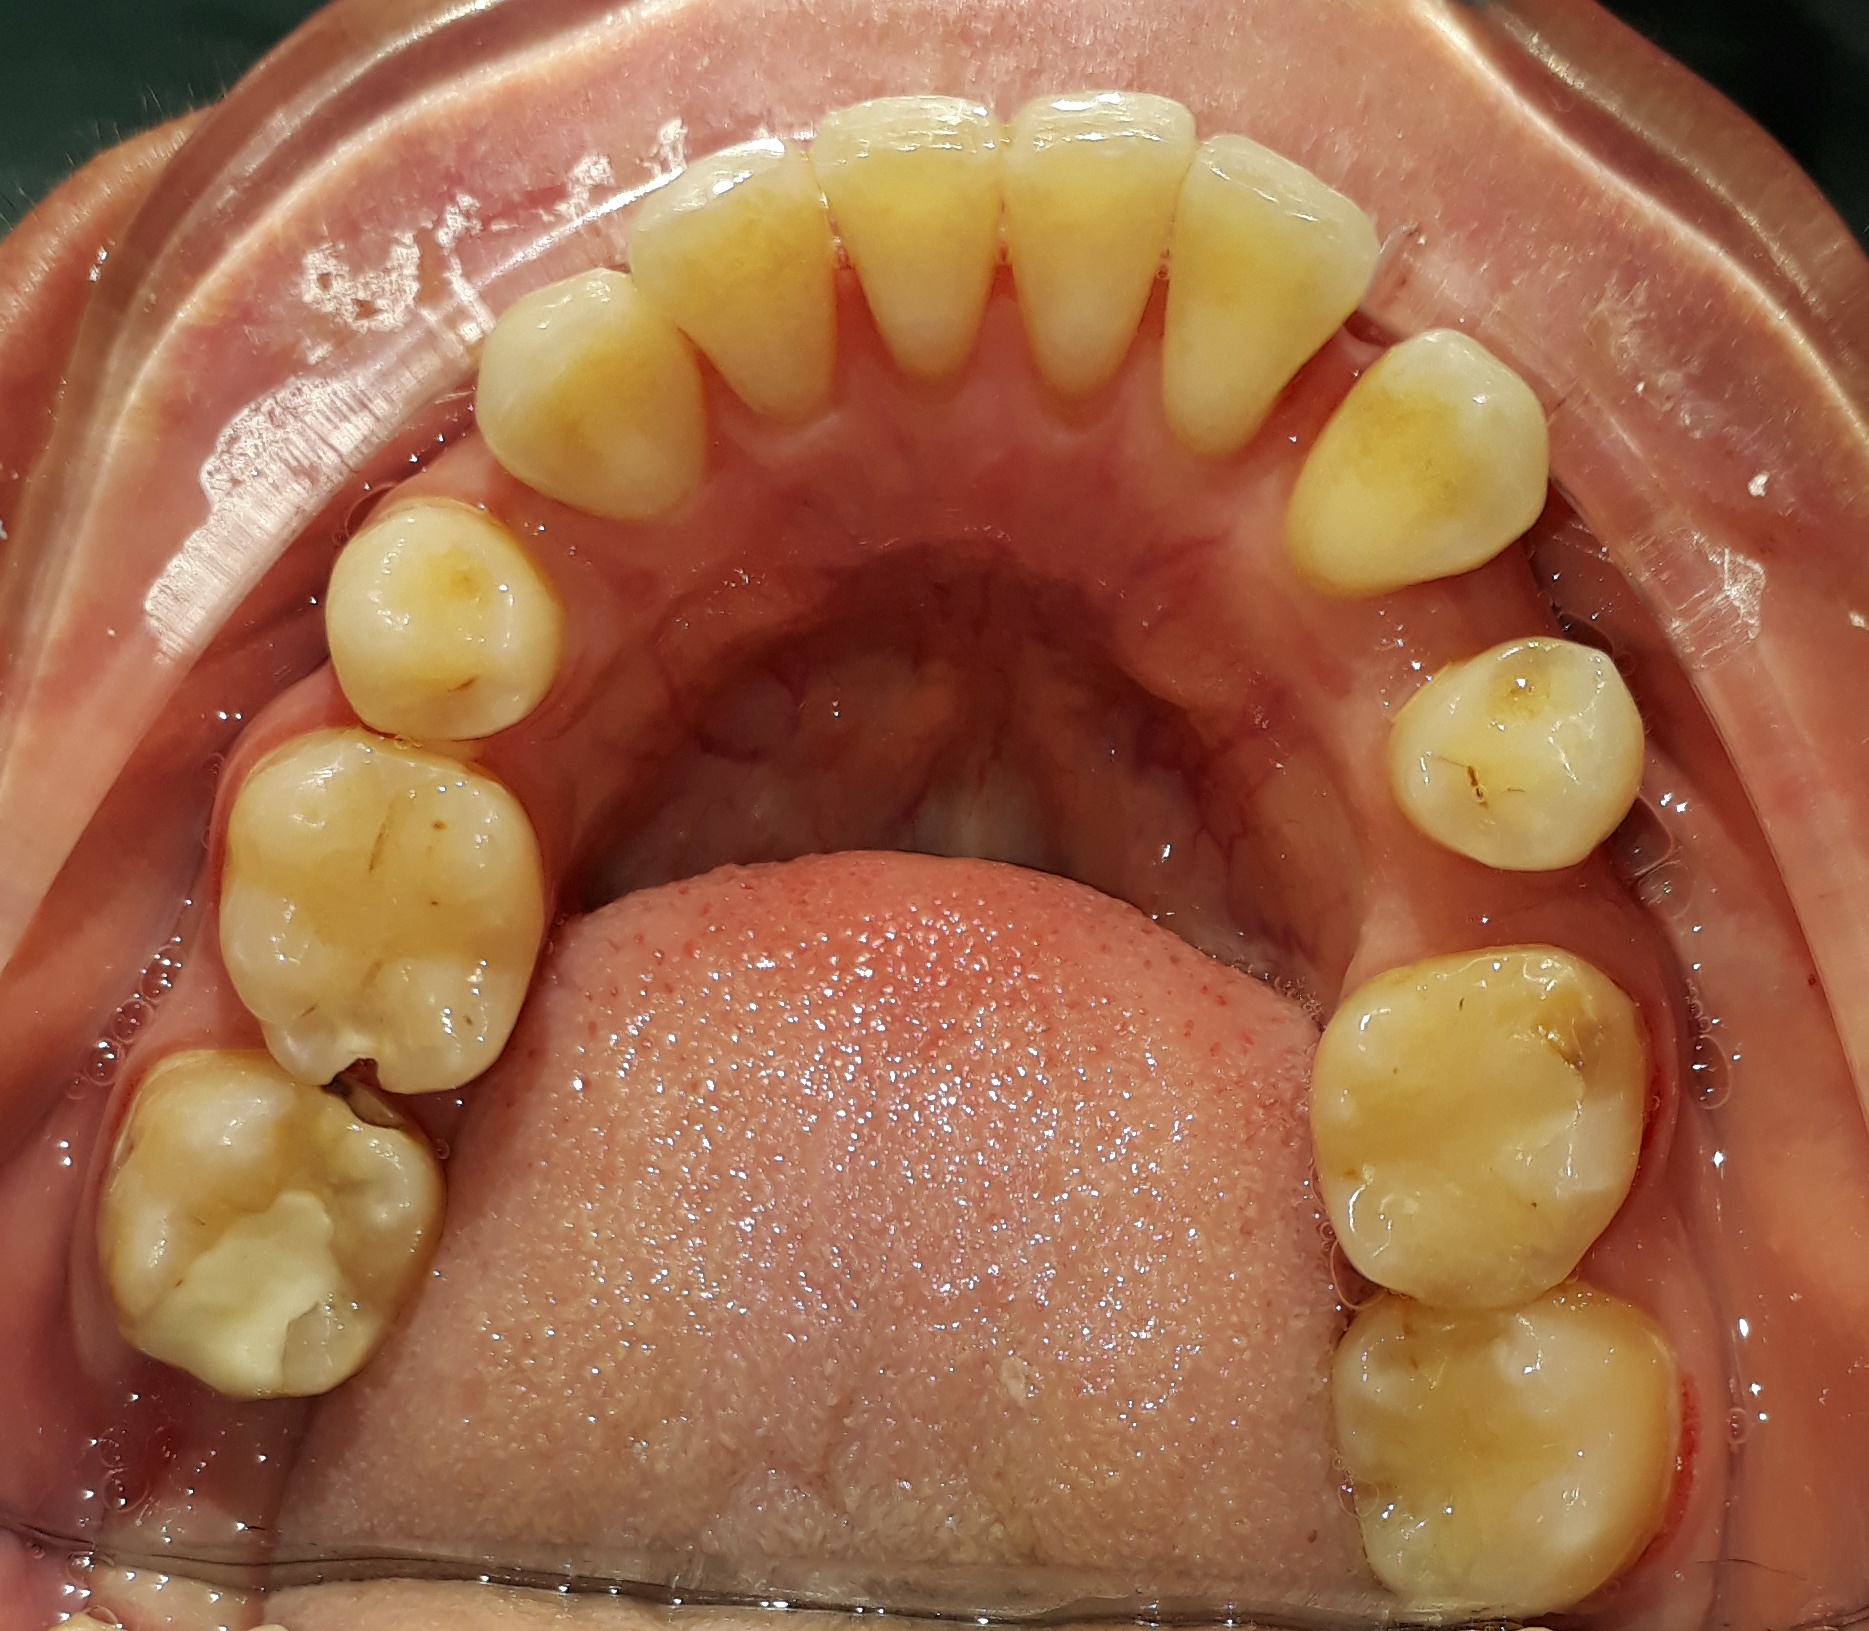1st Molar: (91, 1051, 439, 1399), (1325, 1304, 1683, 1621)
1st Premolar: (1378, 637, 1653, 876), (316, 498, 558, 741)
2nd Premolar: (1314, 944, 1656, 1304), (221, 731, 545, 1100)
Canine: (1294, 321, 1554, 599), (470, 264, 710, 525)
Central Incisor: (817, 87, 1001, 412), (1004, 87, 1187, 412)
Lateral Incisor: (1155, 130, 1383, 448), (629, 137, 841, 421)
